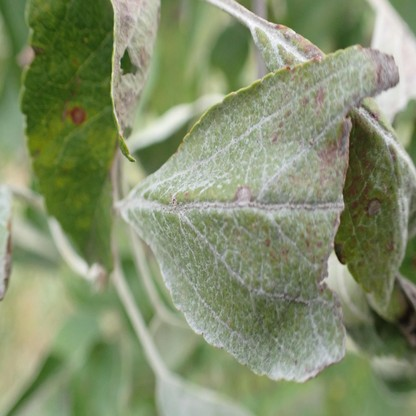frogeye: (235, 186, 252, 204), (71, 106, 87, 125), (368, 198, 381, 215)
powder: (119, 41, 401, 382), (253, 13, 414, 325), (21, 0, 157, 277), (356, 106, 416, 311), (254, 22, 319, 69), (0, 187, 13, 306)
